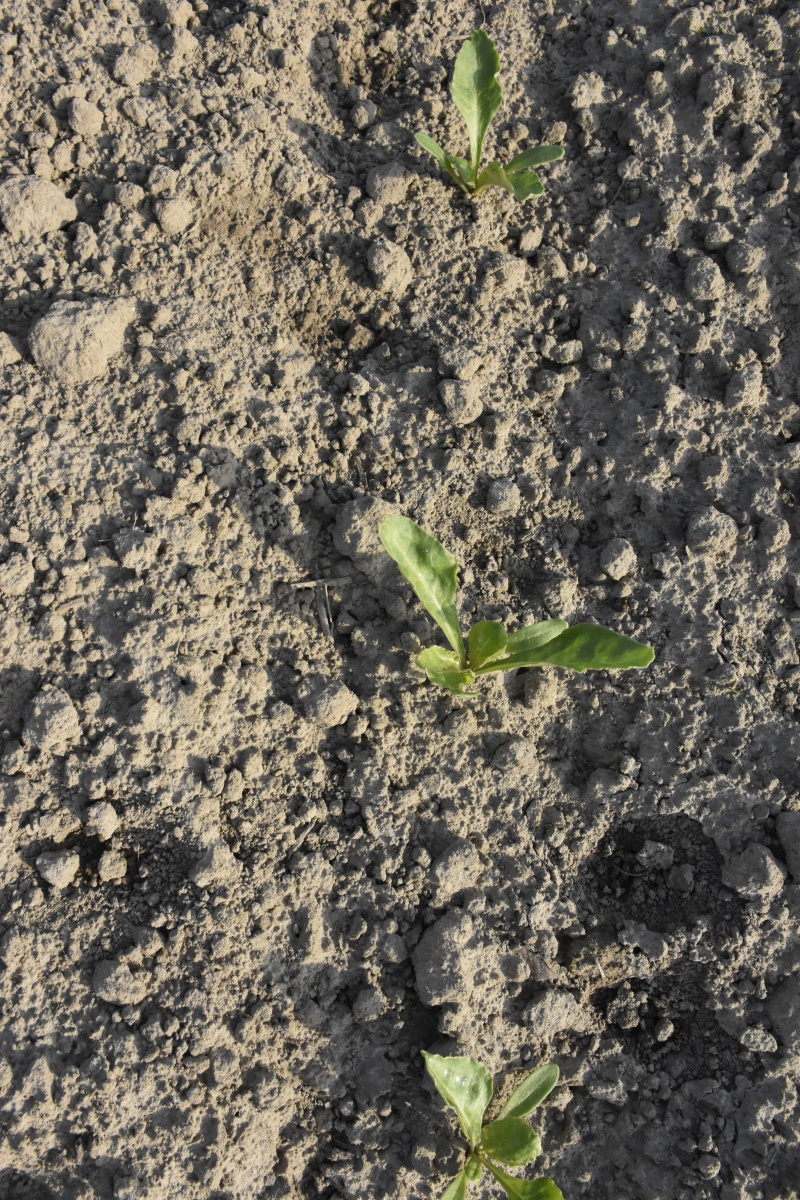sugar beet: (373, 511, 665, 694), (387, 33, 571, 209), (412, 1049, 589, 1199)
